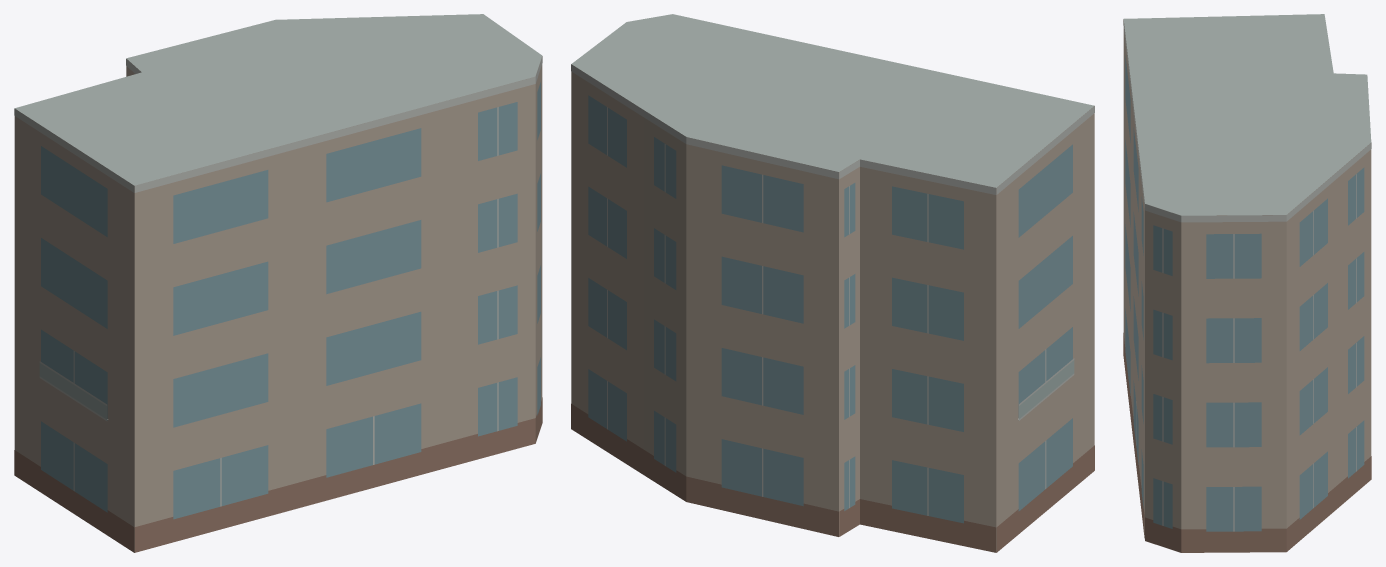
File: survey-upis-32613450.glb
3 renders of one model, left to right at view 1: azimuth 30°, elevation 25°; view 2: azimuth 150°, elevation 25°; view 3: azimuth 270°, elevation 25°, orthographic. The views are drawn at different scales.
Parts seen in each view (by area): view 1: survey-upis-32613450.tmp; view 2: survey-upis-32613450.tmp; view 3: survey-upis-32613450.tmp.
Boxes of the visible parts, left/top/right/bottom form: survey-upis-32613450.tmp: left=14, top=14, right=542, bottom=552; survey-upis-32613450.tmp: left=571, top=14, right=1094, bottom=552; survey-upis-32613450.tmp: left=1123, top=14, right=1371, bottom=552.
Size of the model in its own units: 15.66 by 12.2 by 8.13.
